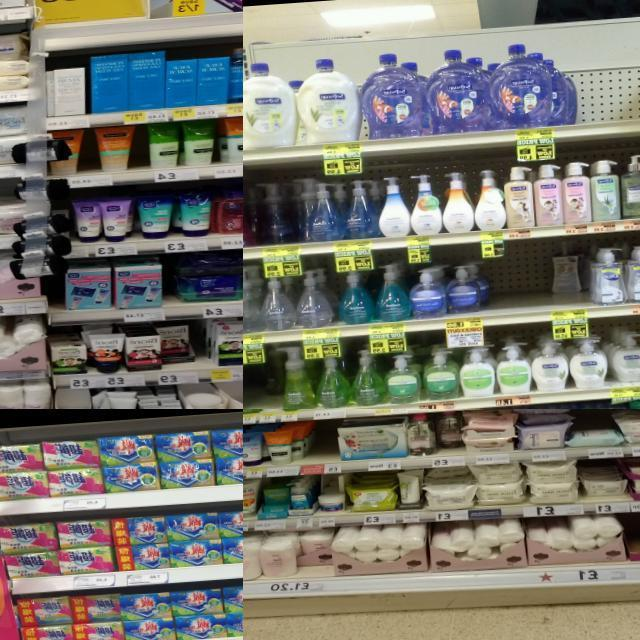empty: (573, 37, 640, 136), (486, 244, 553, 324), (313, 420, 340, 473), (243, 364, 266, 409)
